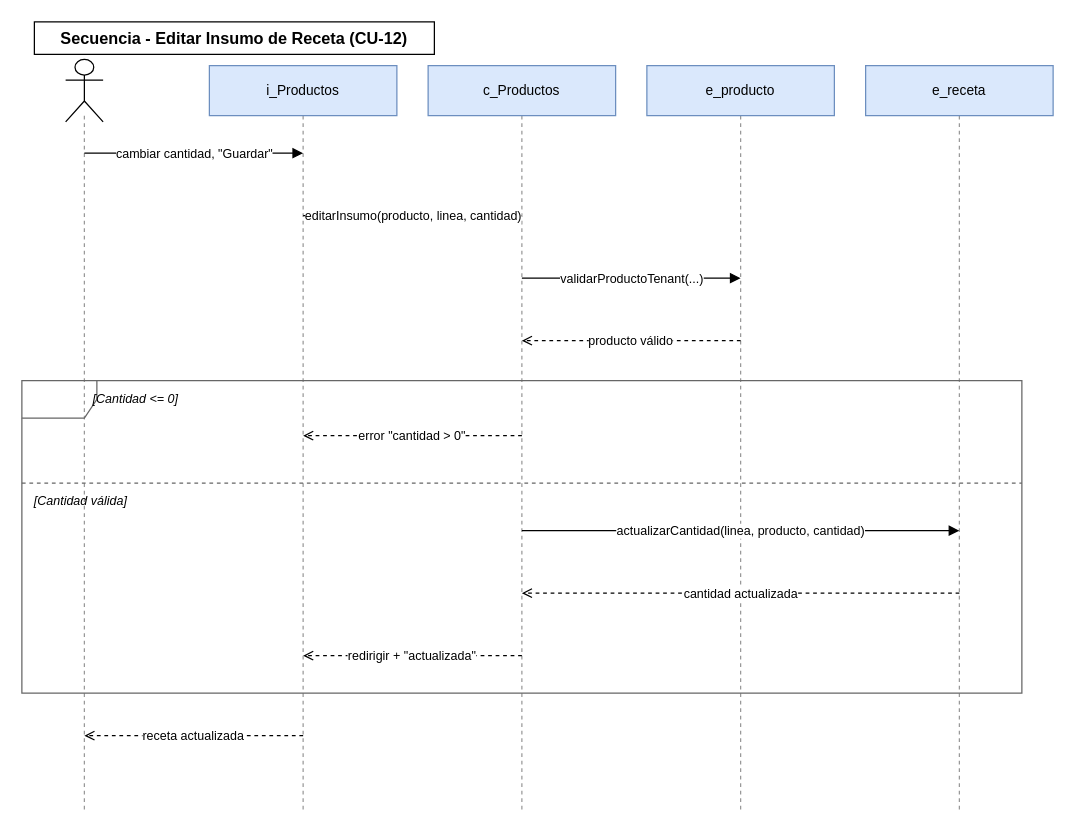
Some shapes in this 1075 by 834 pixel diagram are drawn without their labels. The box of each missing label's shape, as (x1, y1, x2, y2) in pixels:
Administrador: (64, 58, 103, 122)
alt: (21, 379, 1022, 693)
